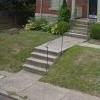stairs: (21, 47, 60, 77), (65, 17, 96, 39)
